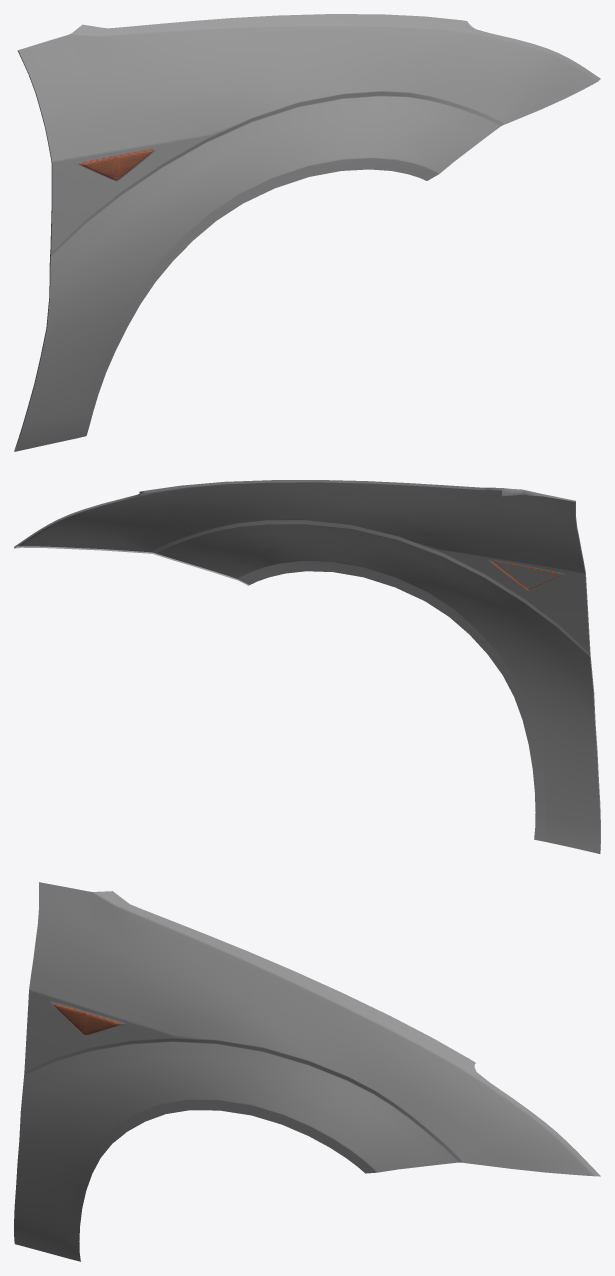
3 renders of one model, top to bottom at view 1: azimuth 30°, elevation 25°; view 2: azimuth 150°, elevation 25°; view 3: azimuth 330°, elevation 25°, orthographic. The views are drawn at different scales.
Visible parts, largest first — view 1: P157_141B_R_P157_141B_R_1_DaS, P157_141B_R_P157_141B_R_3_DTaSI, P157_141B_R_2_N_P157_141B_R, P157_141B_R_P157_141B_R_1_DaS_E; view 2: P157_141B_R_P157_141B_R_1_DaS, P157_141B_R_P157_141B_R_1_DaS_E; view 3: P157_141B_R_P157_141B_R_1_DaS, P157_141B_R_P157_141B_R_3_DTaSI, P157_141B_R_2_N_P157_141B_R.
Part boxes in pixels (x1,y1,x2,y2): P157_141B_R_P157_141B_R_1_DaS: (14, 14, 600, 451); P157_141B_R_P157_141B_R_3_DTaSI: (76, 147, 156, 181); P157_141B_R_2_N_P157_141B_R: (79, 148, 153, 180); P157_141B_R_P157_141B_R_1_DaS_E: (14, 50, 52, 451); P157_141B_R_P157_141B_R_1_DaS: (18, 482, 600, 853); P157_141B_R_P157_141B_R_1_DaS_E: (14, 480, 600, 853); P157_141B_R_P157_141B_R_1_DaS: (14, 882, 600, 1261); P157_141B_R_P157_141B_R_3_DTaSI: (50, 1001, 124, 1035); P157_141B_R_2_N_P157_141B_R: (53, 1003, 121, 1035).
Bounding box in the file's own units: 136 × 83.29 × 17.5.
